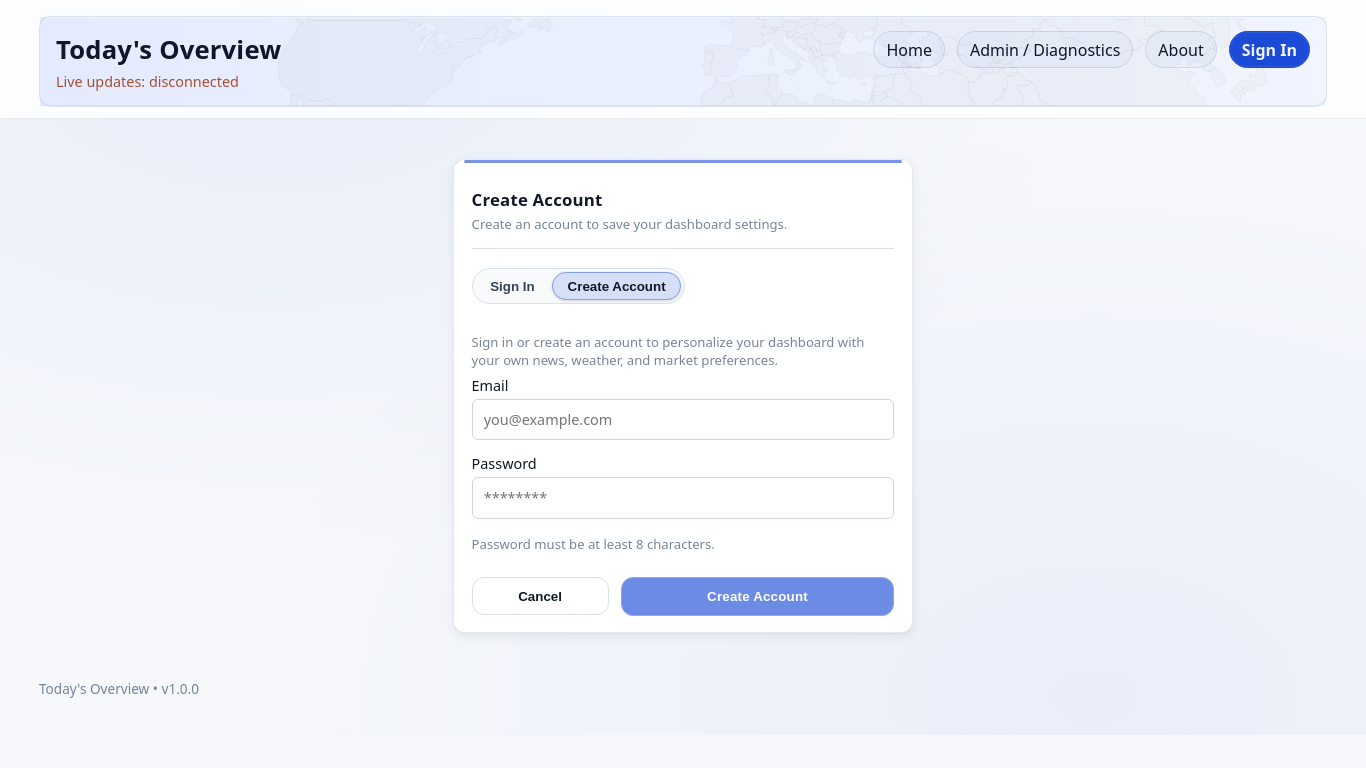
it: App › signup enforces min password length and surfaces backend 400 error message
Check: the text "Password must be at least 8 characters." is shown, box [472,535,715,553]
Type "short" into the password field with placeholder "********". click: (683, 498)
box: [472,477,894,519]
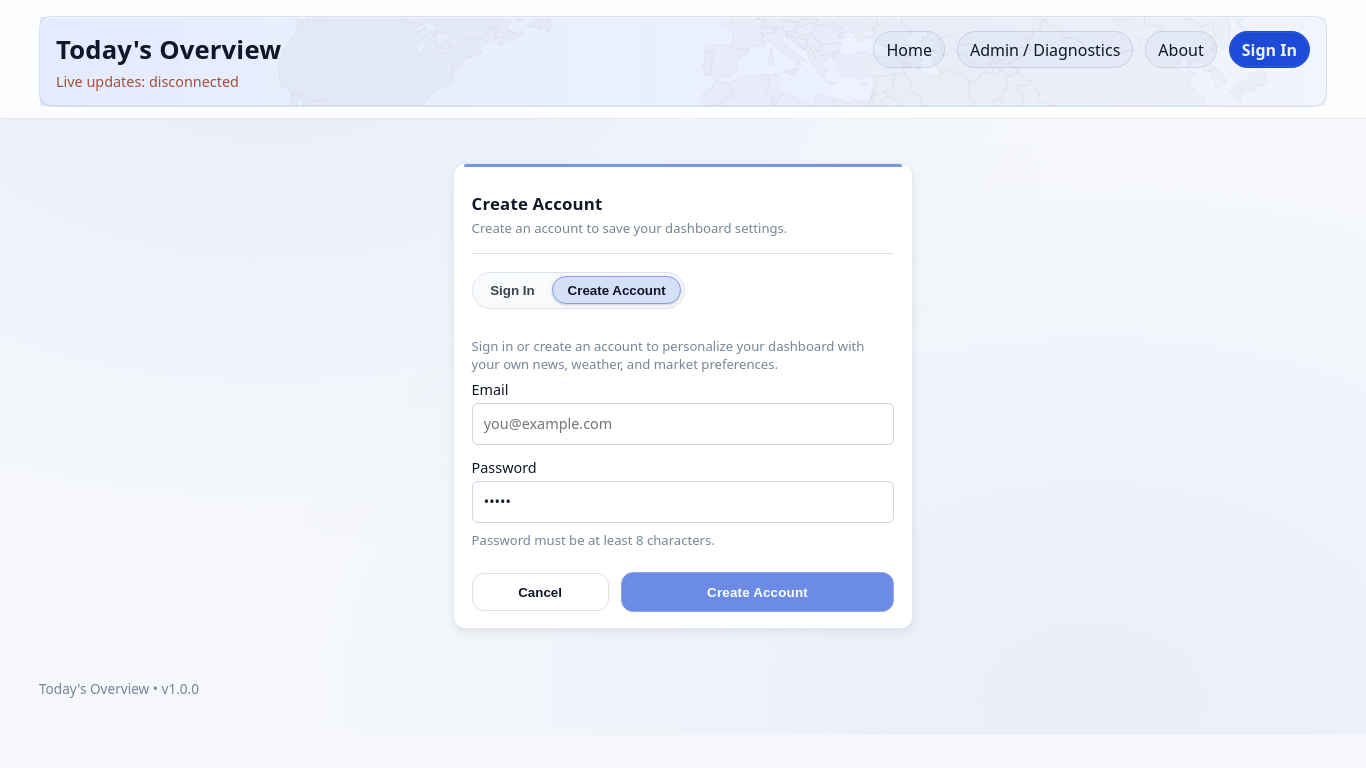
Check: the button "Create Account" below "Password must be at least 8 characters." is disabled, box [620,572,894,612]
Check: the text "Password must be at least 8 characters." is shown once, box [472,531,715,549]
Type "user@example.com" into the field labelled "Email". click: (683, 424)
box: [472,403,894,445]
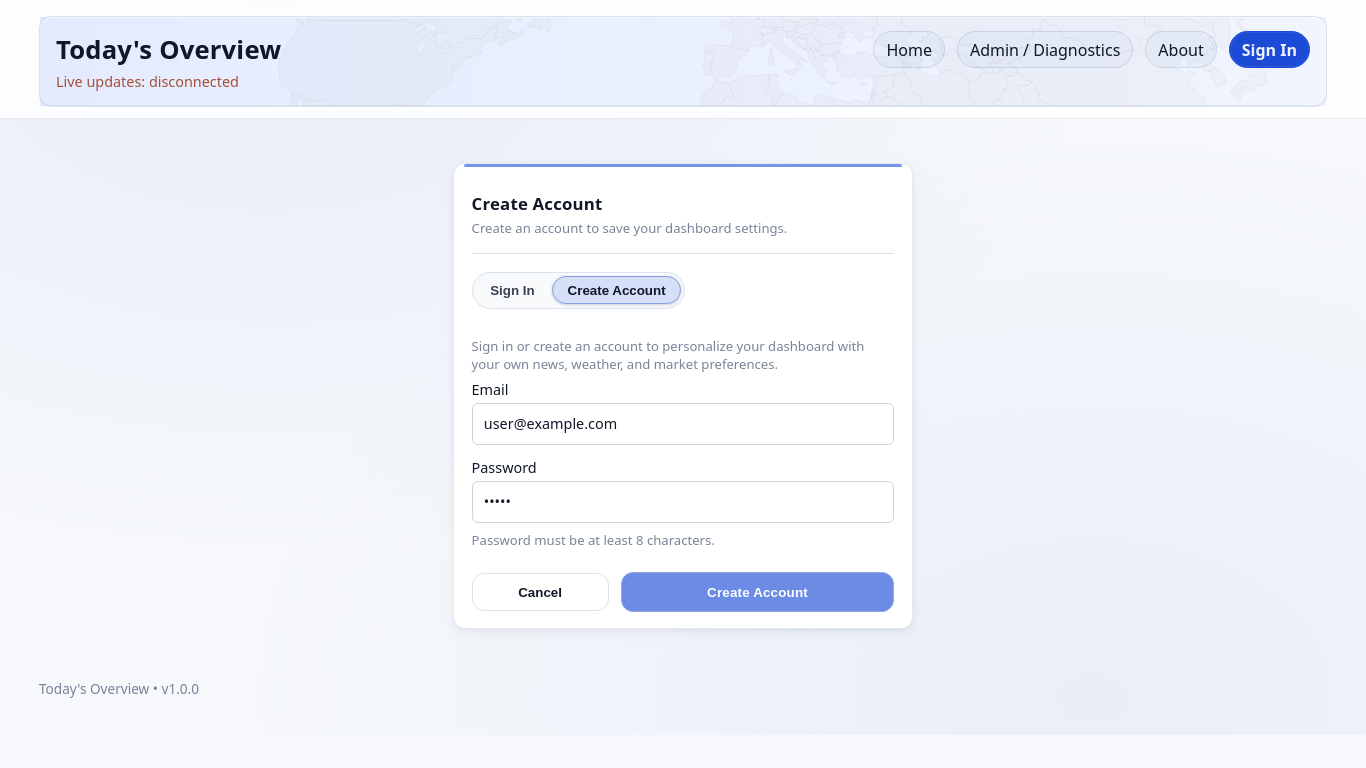
Type "long-enough-password" into the password field with placeholder "********". click: (683, 502)
box: [472,481,894,523]
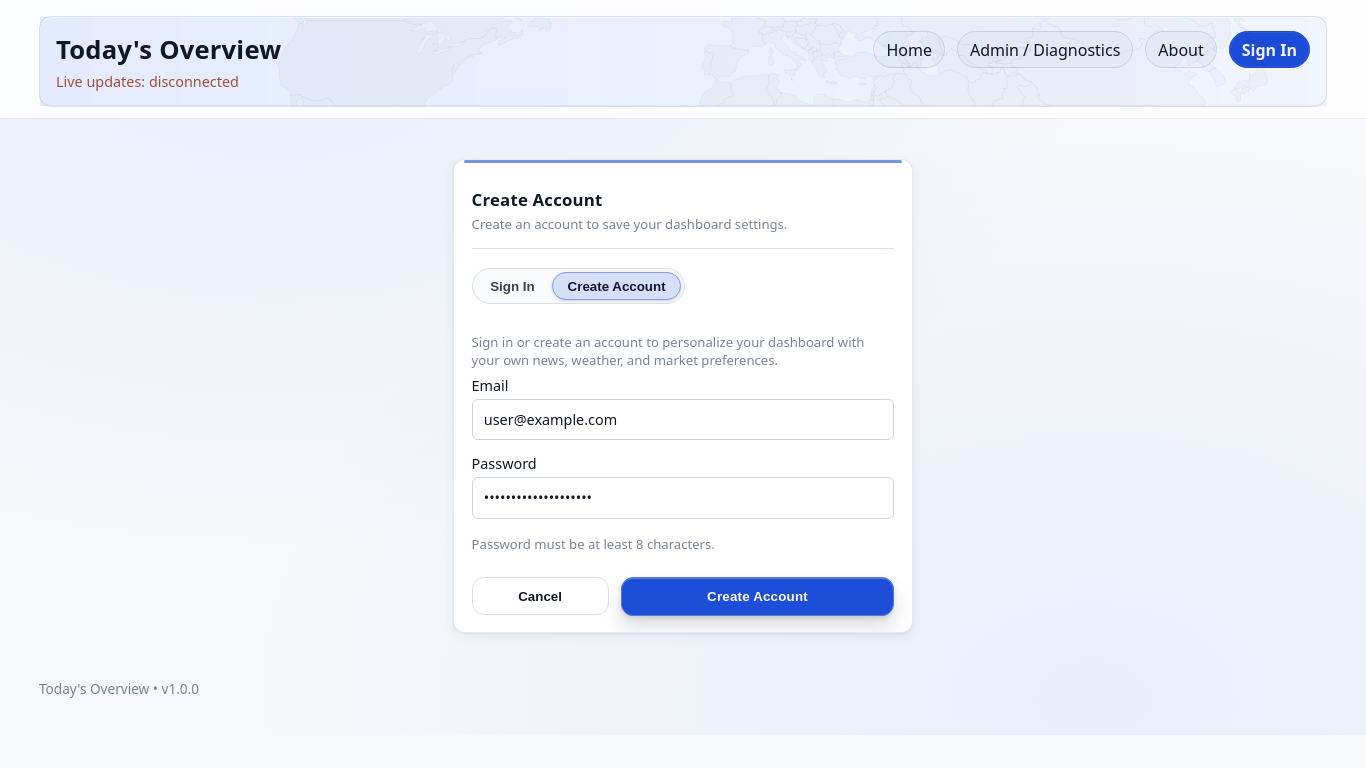
Check: the button "Create Account" below "Password must be at least 8 characters." is enabled
Click the button "Create Account" below "Password must be at least 8 characters.". click: click(757, 596)
box: [620,577,894,616]
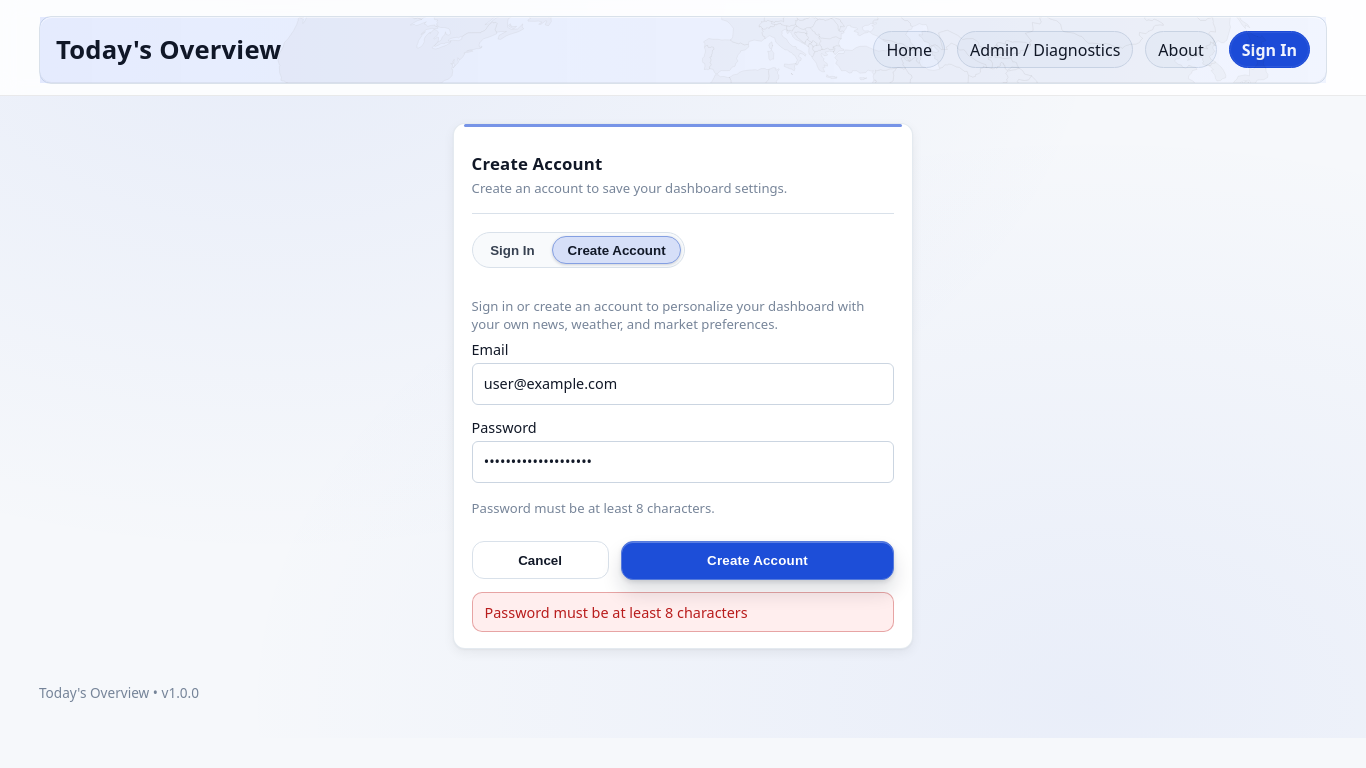
Check: the text "Password must be at least 8 characters" is shown, box [472,592,894,632]
